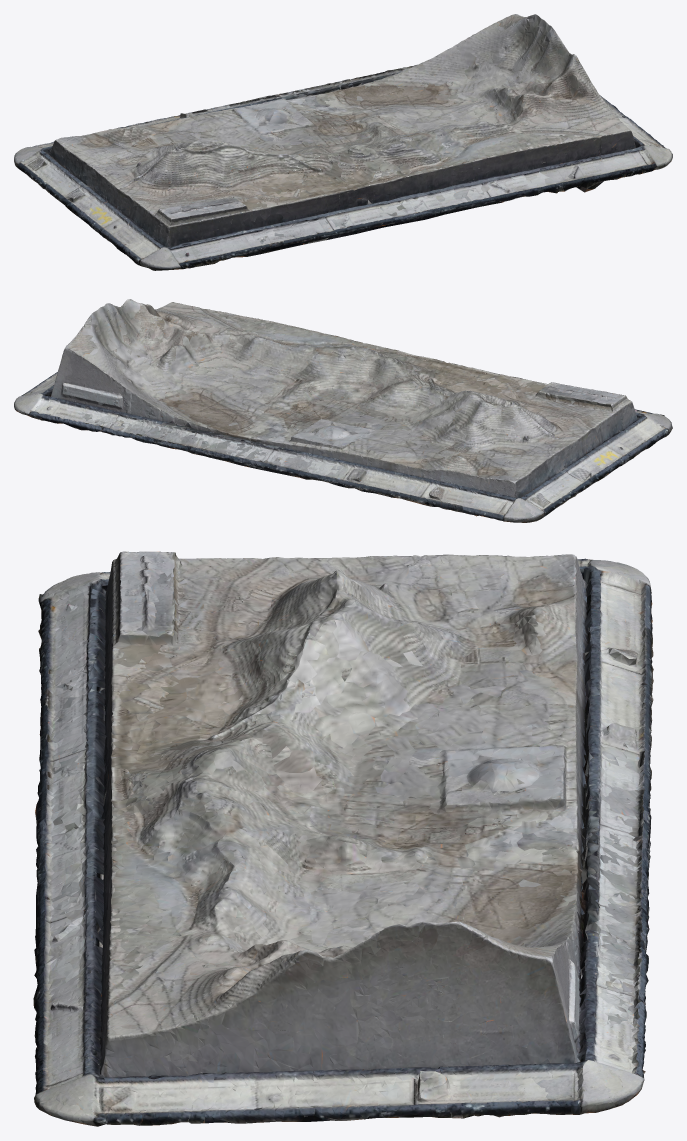
Rendered from maqueta.glb.
The picture shows the model from 3 angles, top to bottom: view 1: azimuth 30°, elevation 25°; view 2: azimuth 150°, elevation 25°; view 3: azimuth 270°, elevation 25°; orthographic projection. The views are drawn at different scales.
Size of the model in its own units: 2 by 0.3212 by 1.01.
1 material, 1 textured.
